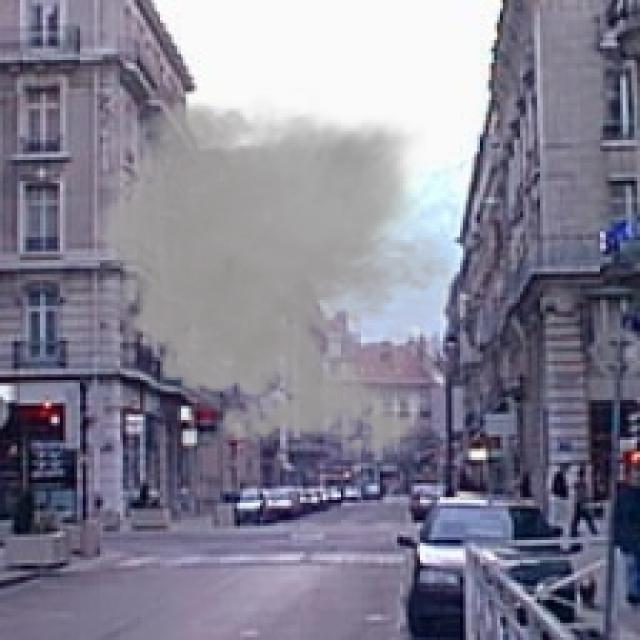Smoke: (77, 88, 477, 466)
